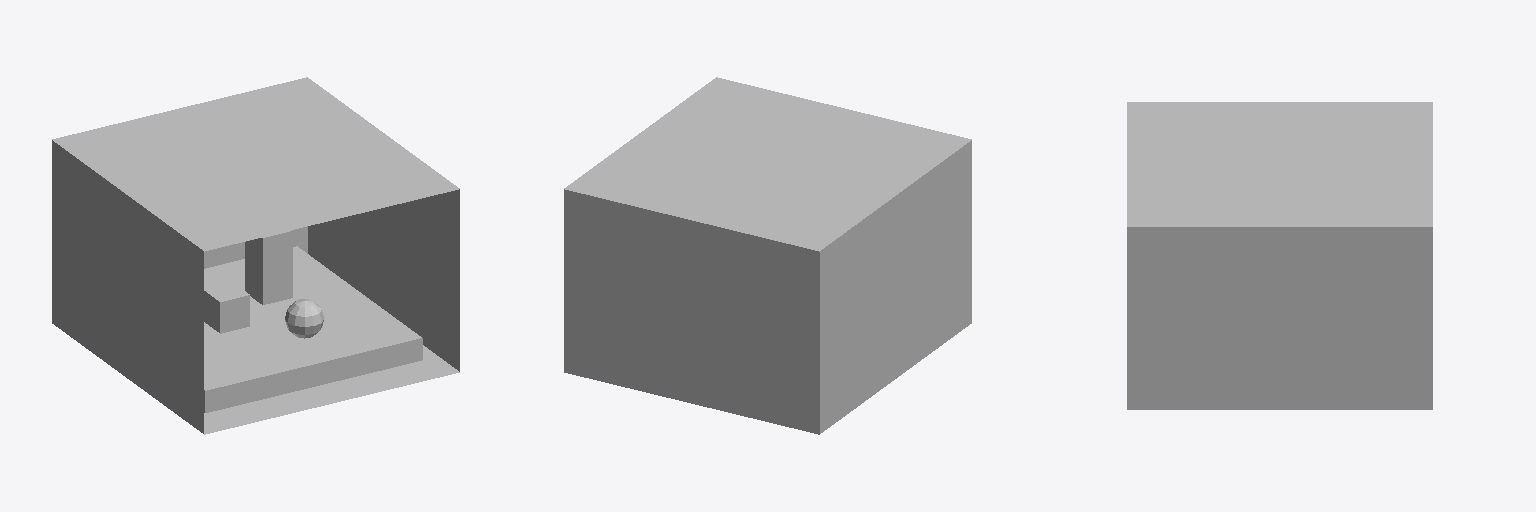
Rendered from demoScene.obj.
3 views of the same model, side by side, from view 1: azimuth 30°, elevation 25°; view 2: azimuth 150°, elevation 25°; view 3: azimuth 270°, elevation 25° (orthographic).
Parts seen in each view (by area): view 1: pCube3, table:pCube1, pCube2, pCube1, pSphere1; view 2: pCube3; view 3: pCube3.
Part boxes in pixels (bbox=[...]): pCube3: bbox=[52, 77, 459, 434]; table:pCube1: bbox=[204, 246, 422, 412]; pCube2: bbox=[245, 230, 292, 304]; pCube1: bbox=[204, 282, 249, 333]; pSphere1: bbox=[285, 299, 324, 338]; pCube3: bbox=[564, 77, 971, 434]; pCube3: bbox=[1127, 102, 1432, 409].
Size of the model in its own units: 14.81 by 10.13 by 15.32.